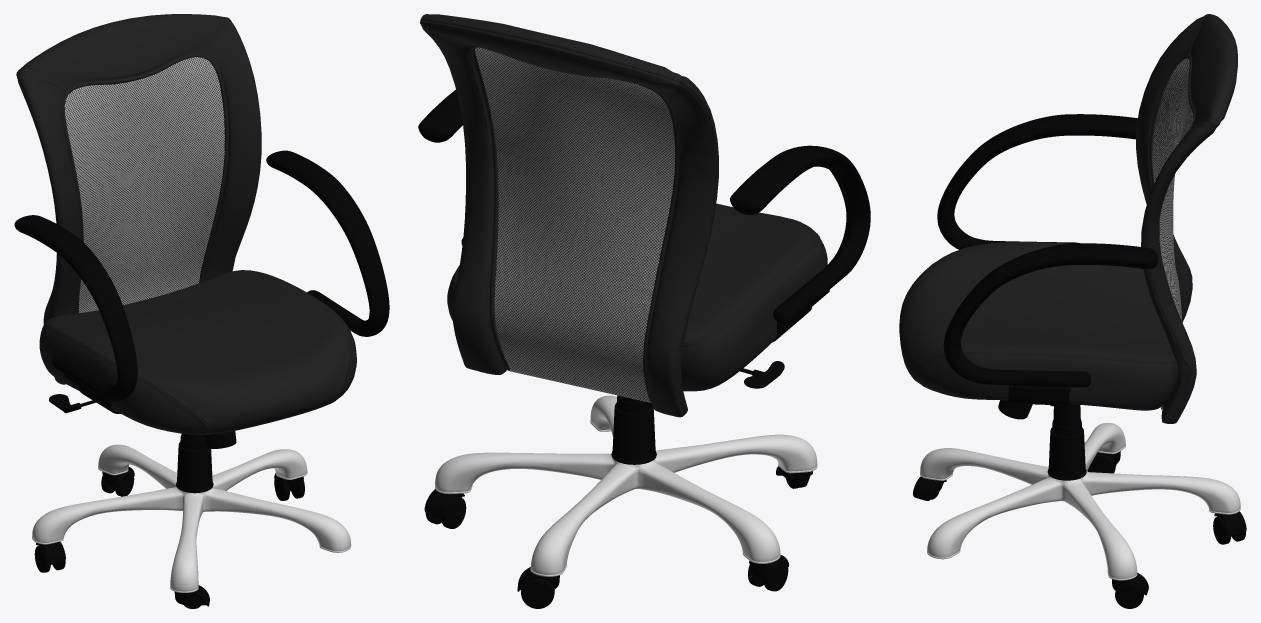
Rendered from 78962_forwebARrescale.glb.
3 renders of one model, left to right at view 1: azimuth 30°, elevation 25°; view 2: azimuth 150°, elevation 25°; view 3: azimuth 270°, elevation 25°, orthographic. The views are drawn at different scales.
Visible parts, largest first — view 1: Box02, Box01, Rectangle02, Line04, Line05, Cylinder01, Cylinder21, Cylinder25; view 2: Box02, Box01, Rectangle02, Line04, Cylinder01, Line05, Cylinder25, Cylinder24, Cylinder02, Circle01, Cylinder04; view 3: Box01, Box02, Rectangle02, Line05, Line04, Cylinder01, Rectangle11, Cylinder02, Cylinder21, Cylinder26.
Part boxes in pixels (x1=…): Box02: x1=16, y1=14, x2=261, y2=384; Box01: x1=39, y1=270, x2=356, y2=434; Rectangle02: x1=32, y1=444, x2=351, y2=592; Line04: x1=14, y1=215, x2=137, y2=401; Line05: x1=266, y1=150, x2=389, y2=336; Cylinder01: x1=176, y1=433, x2=213, y2=493; Cylinder21: x1=174, y1=585, x2=209, y2=608; Cylinder25: x1=101, y1=470, x2=134, y2=496; Box02: x1=420, y1=14, x2=718, y2=417; Box01: x1=447, y1=203, x2=827, y2=391; Rectangle02: x1=435, y1=395, x2=817, y2=576; Line04: x1=730, y1=145, x2=870, y2=323; Cylinder01: x1=611, y1=395, x2=656, y2=464; Line05: x1=418, y1=90, x2=463, y2=244; Cylinder25: x1=521, y1=577, x2=554, y2=608; Cylinder24: x1=748, y1=558, x2=788, y2=591; Cylinder02: x1=425, y1=496, x2=466, y2=528; Circle01: x1=744, y1=361, x2=784, y2=388; Cylinder04: x1=424, y1=489, x2=464, y2=518; Box01: x1=899, y1=242, x2=1178, y2=410; Box02: x1=1136, y1=14, x2=1237, y2=423; Rectangle02: x1=920, y1=423, x2=1240, y2=580; Line05: x1=943, y1=243, x2=1157, y2=387; Line04: x1=937, y1=114, x2=1137, y2=249; Cylinder01: x1=1047, y1=404, x2=1086, y2=480; Rectangle11: x1=1007, y1=385, x2=1070, y2=405; Cylinder02: x1=1115, y1=582, x2=1144, y2=608; Cylinder21: x1=913, y1=476, x2=946, y2=500; Cylinder26: x1=1214, y1=511, x2=1246, y2=535.
Size of the model in its own units: 44.74 by 71.22 by 45.71.
Materials: 5 (1 with a texture image).
